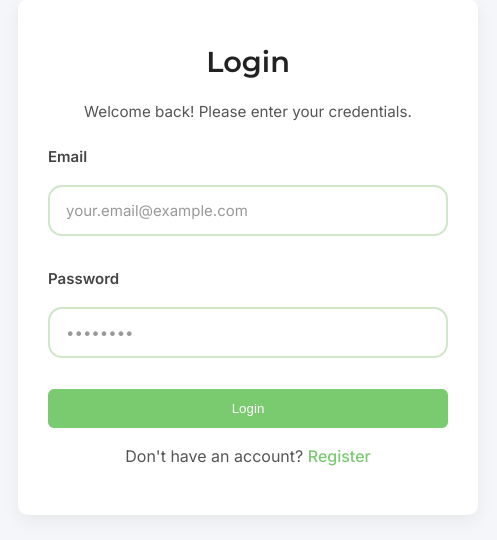
Test: Login Component › disables the submit button while loading
Step 1. Type "test@example.com" into the field labelled "Email" → (248, 210), box [48,185,448,236]
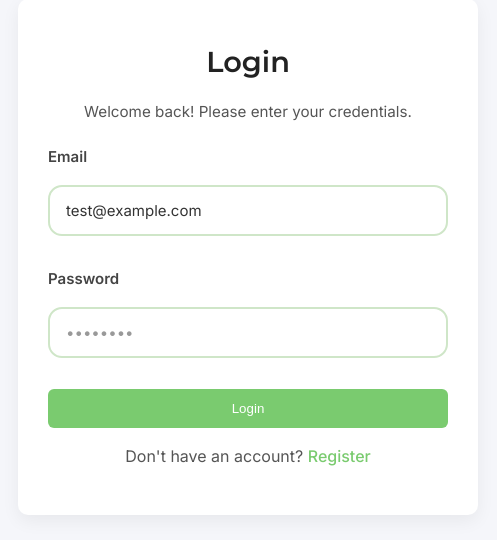
Step 2. Type "password123" into the password field labelled "Password" → (248, 332), box [48,307,448,358]
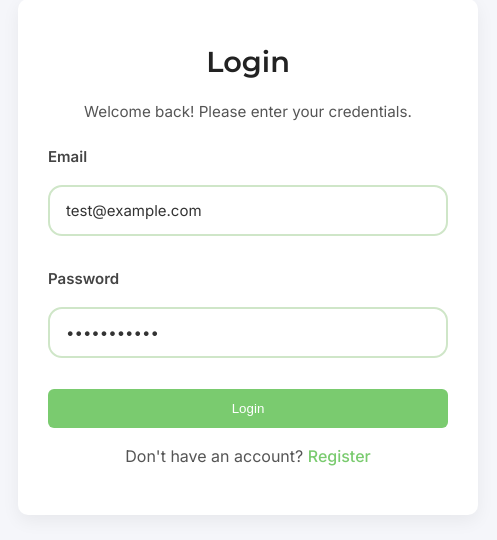
Step 3. Submit the form from the button, box [48,389,448,428]
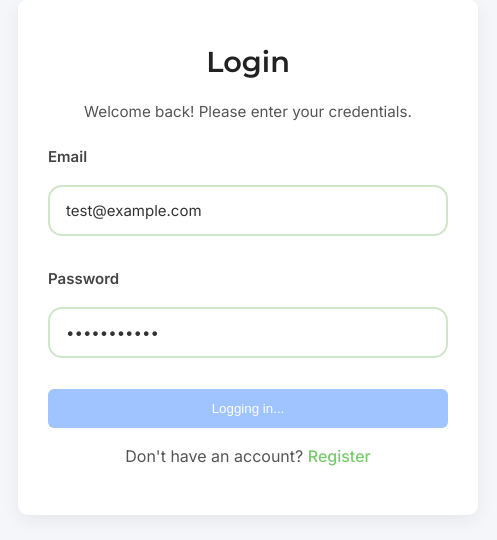
Check: the button is disabled, box [48,389,448,428]
